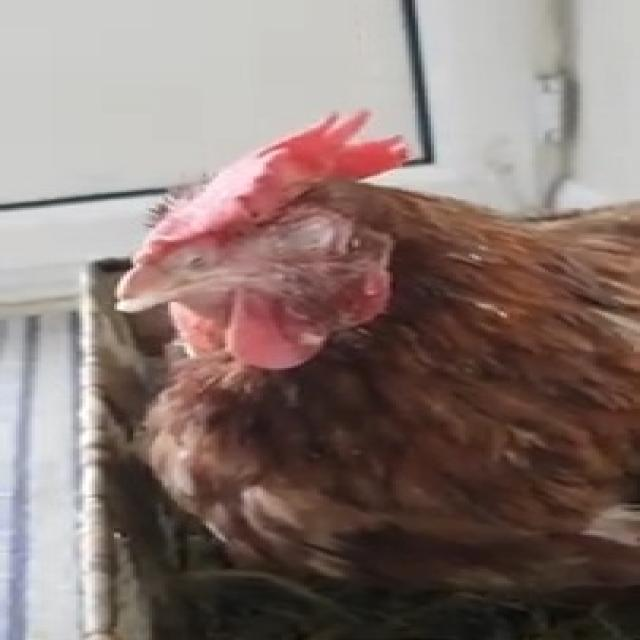sleeping chickens: (107, 135, 640, 579)
